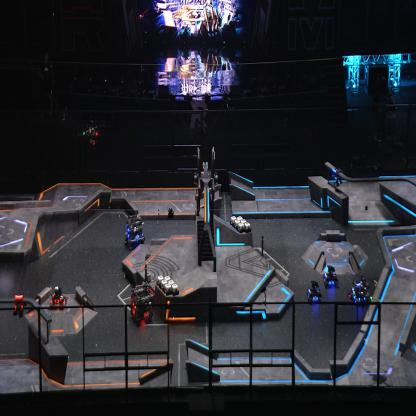car: (129, 282, 154, 327), (123, 212, 145, 251), (349, 273, 370, 306), (48, 285, 68, 311), (305, 279, 323, 305), (322, 263, 339, 289)
